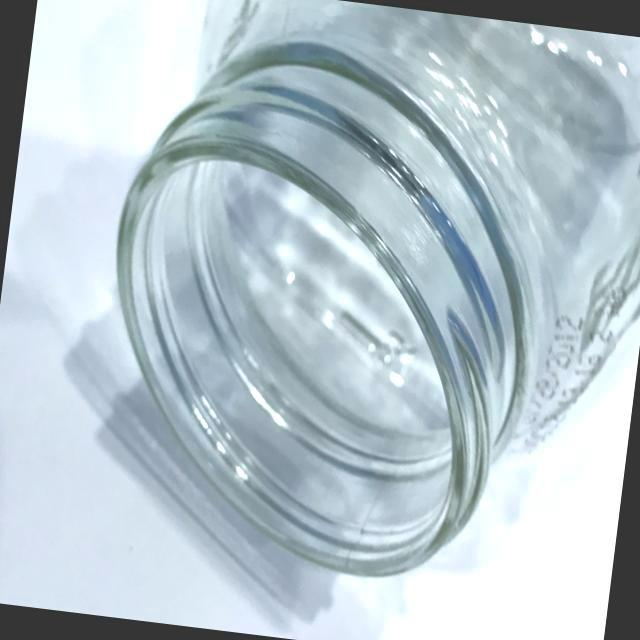glass: (70, 0, 640, 612)
